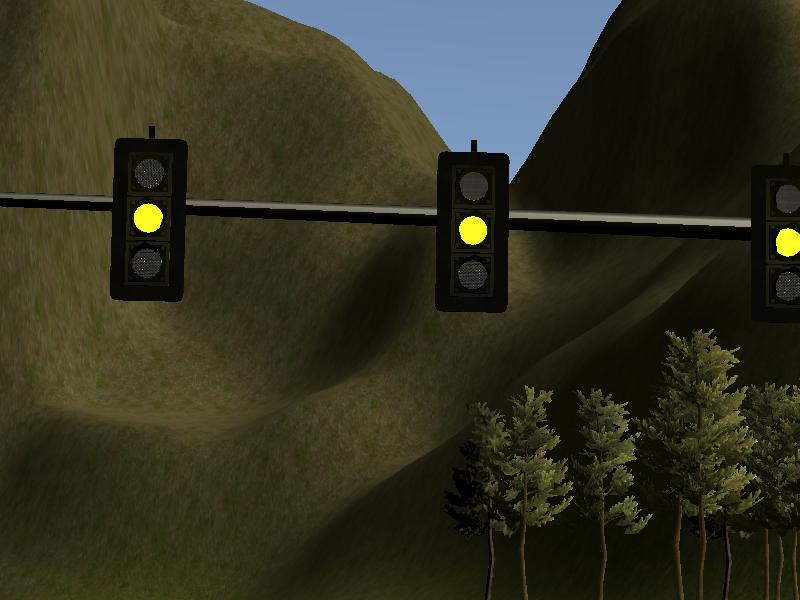Yellow: (112, 137, 187, 303), (436, 151, 509, 314), (751, 162, 800, 326)
